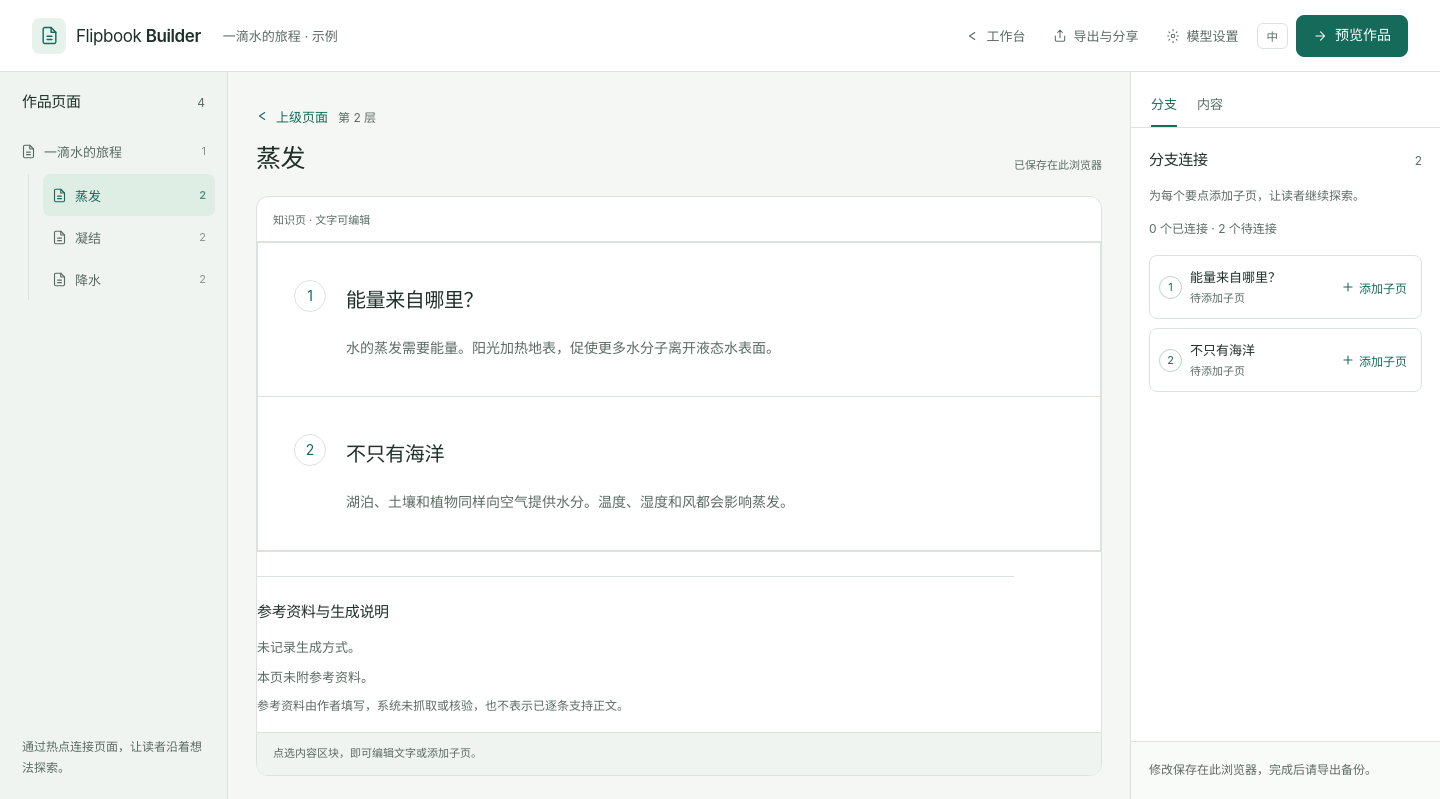
Test: direct local branch workflow › selects and focuses a virtual section, and exposes its direct branch action
Click the button "不只有海洋": (395,454) left=346, top=433, right=1064, bottom=477
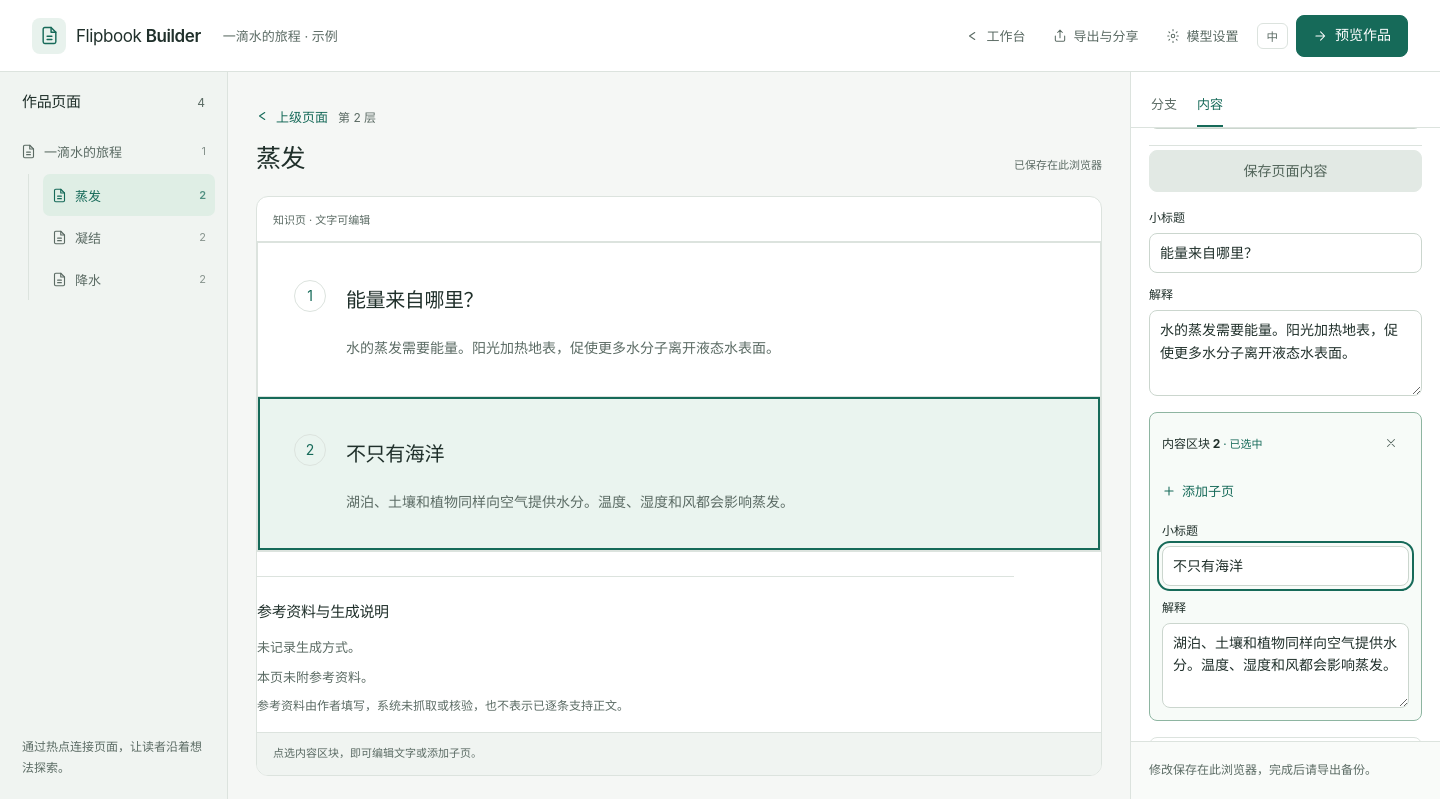
Expected: the button "添加子页" is enabled, left=1162, top=473, right=1234, bottom=509
Replace the text in the text box labelled "解释" below "内容区块 2" with "unsaved explanation": (1286,666) left=1162, top=623, right=1409, bottom=708
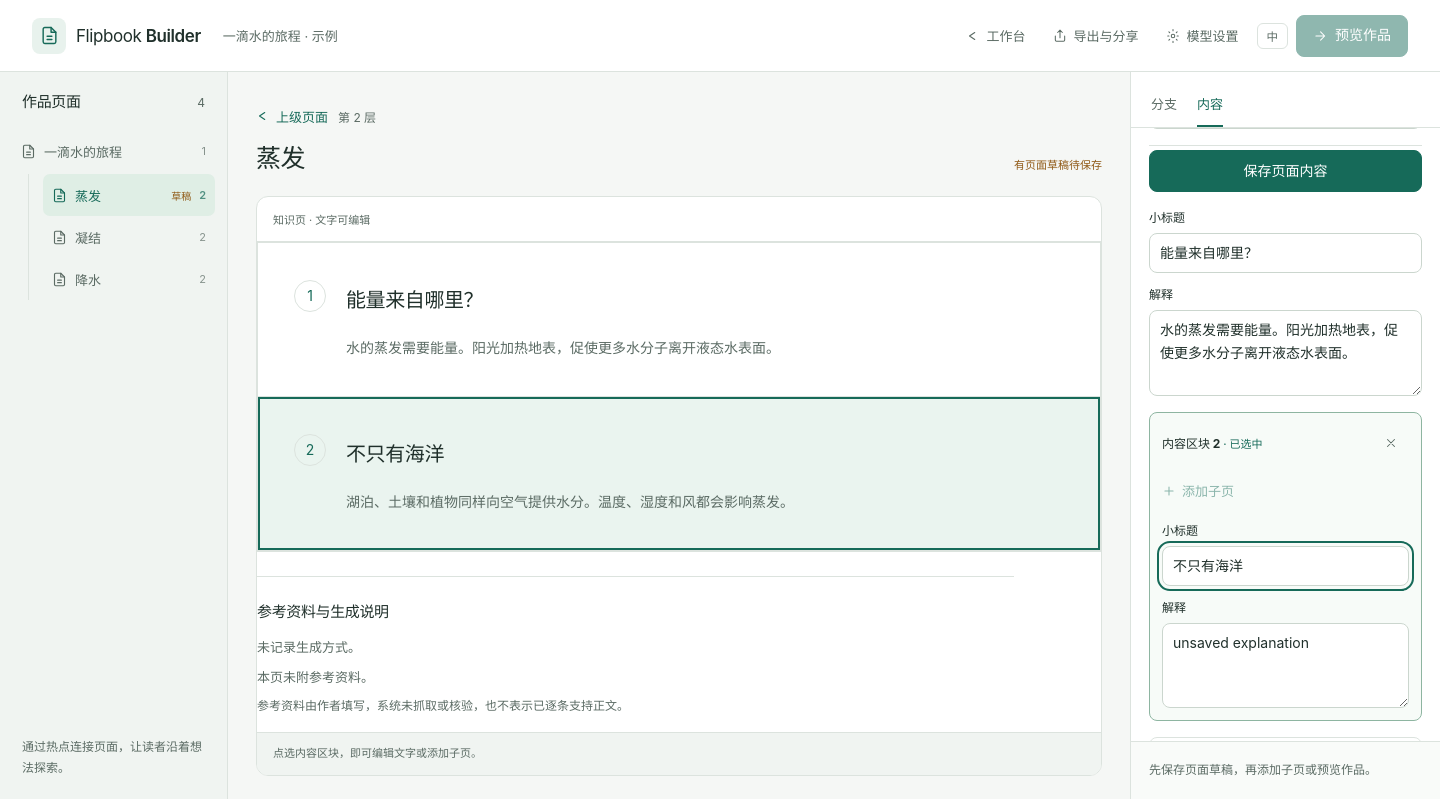
Now the button "添加子页" is disabled, box left=1162, top=473, right=1234, bottom=509
